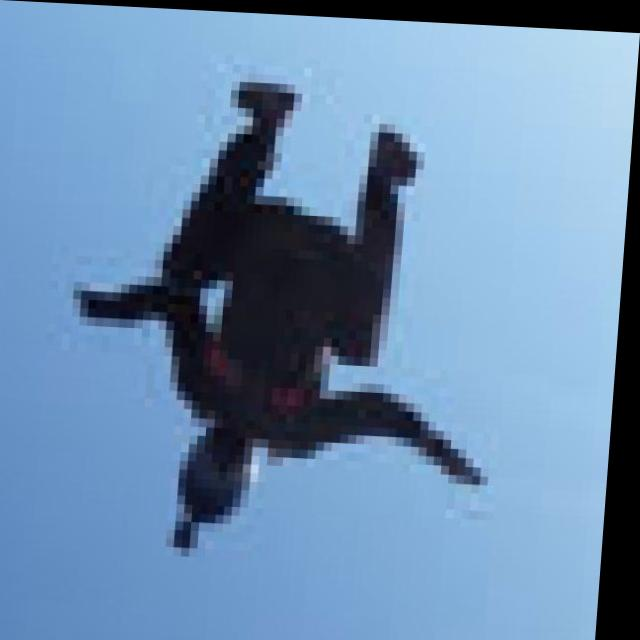fall: (59, 68, 521, 561)
